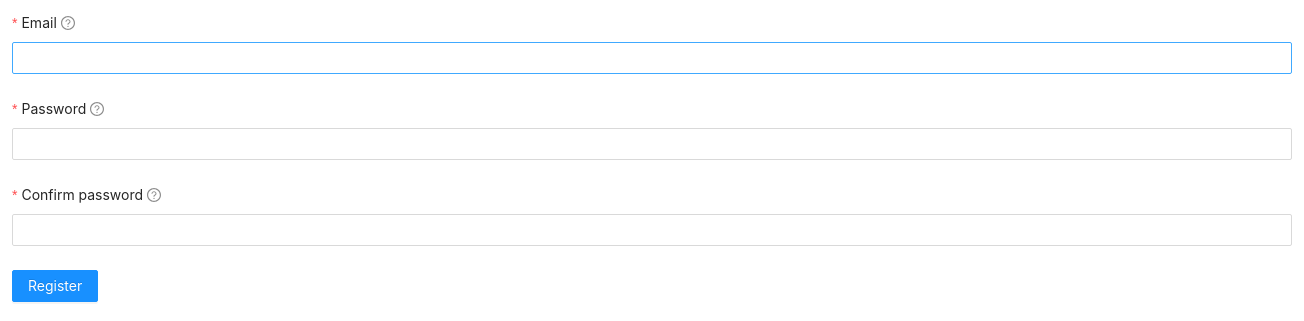
Scenario: Register form › should show email error message on empty email
expect the text "please input your email!" is not shown: met
Click the button: click(55, 286) [12,270,98,302]
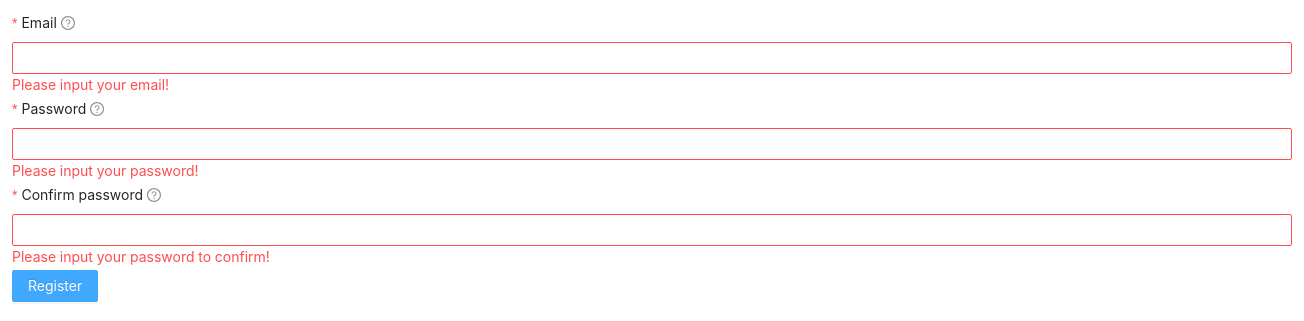
expect the text "Please input your email!" is shown: met, box [12,76,169,93]
